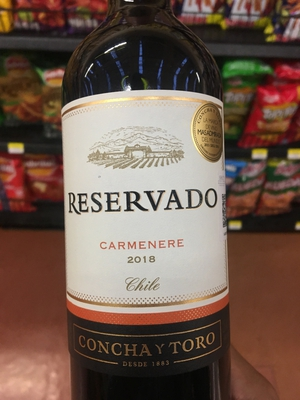reservado carmenere: (61, 1, 231, 395)
